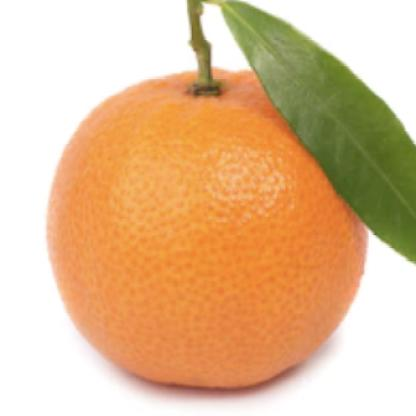fresh: (48, 56, 369, 393)
